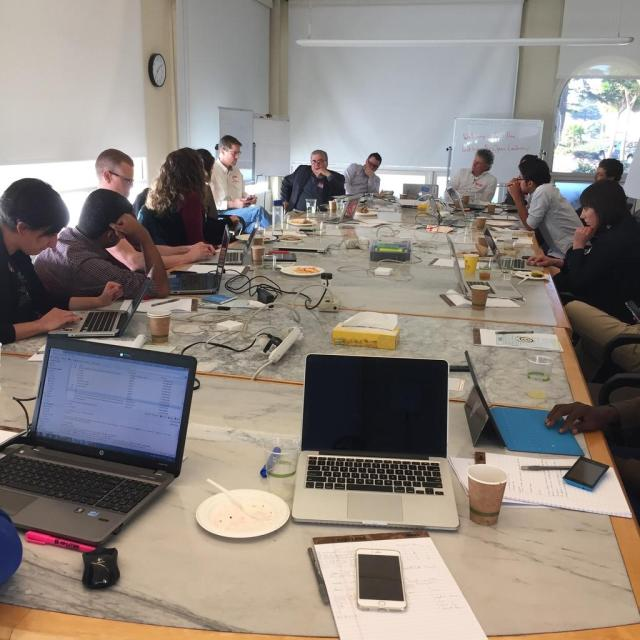bottle: (273, 200, 284, 235)
glass: (471, 285, 489, 311)
laptop: (0, 341, 195, 546), (290, 355, 479, 525), (54, 265, 158, 339), (171, 229, 234, 299)
